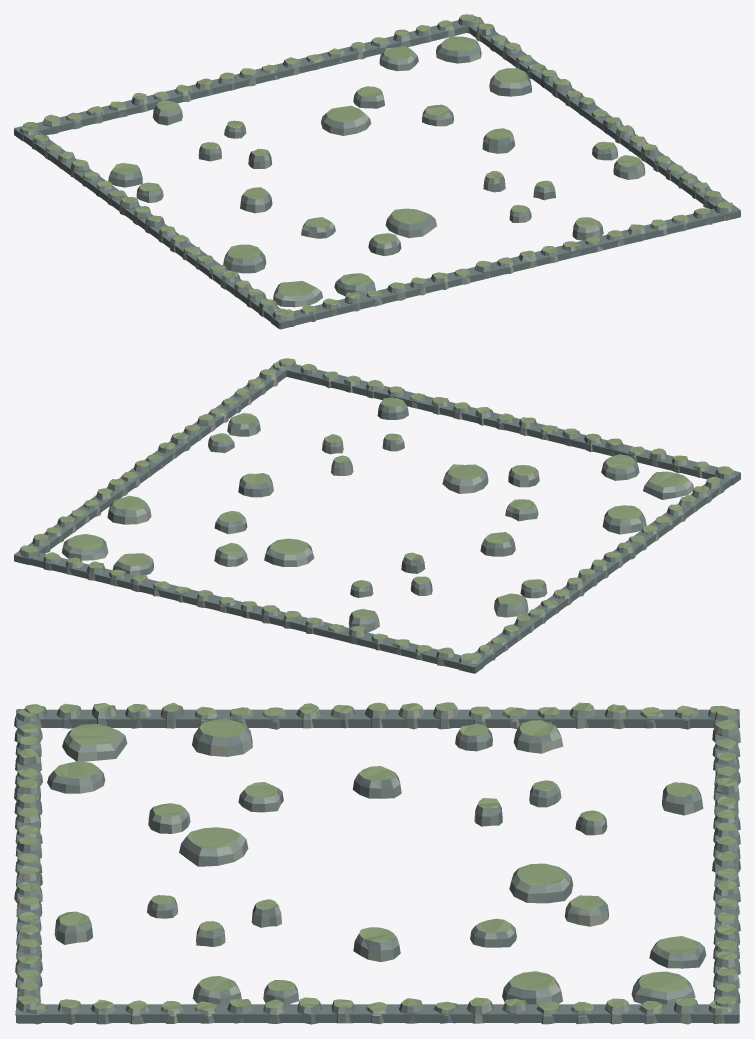
Rendered from SM_R01_Cliffs_and_Boundary.fbx.
3 renders of one model, top to bottom at view 1: azimuth 30°, elevation 25°; view 2: azimuth 150°, elevation 25°; view 3: azimuth 270°, elevation 25°, orthographic. The views are drawn at different scales.
Visible parts, largest first — view 1: SM_R01_Cliffs_and_Boundary; view 2: SM_R01_Cliffs_and_Boundary; view 3: SM_R01_Cliffs_and_Boundary.
Boxes of the visible parts, box(x1,y1,x2,y2) form: SM_R01_Cliffs_and_Boundary: box(14, 14, 740, 329); SM_R01_Cliffs_and_Boundary: box(14, 358, 740, 673); SM_R01_Cliffs_and_Boundary: box(14, 702, 740, 1024).
Size of the model in its own units: 11251 by 11249 by 308.
